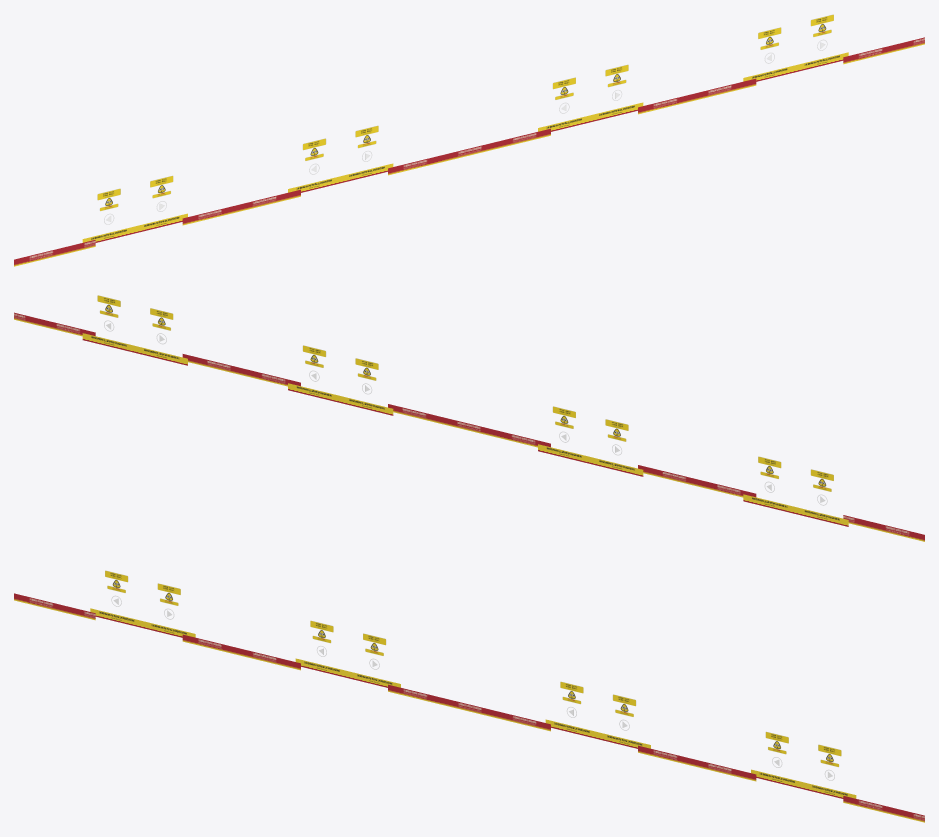
Rendered from PlatformEdgeDecals.glb.
3 renders of one model, top to bottom at view 1: azimuth 30°, elevation 25°; view 2: azimuth 150°, elevation 25°; view 3: azimuth 330°, elevation 25°, orthographic.
Visible parts, largest first — view 1: psd-fixed-band (×5); view 2: psd-fixed-band (×5); view 3: psd-fixed-band (×5).
Boxes of the visible parts, x1,y1,x2,y2 form: psd-fixed-band (×5): [14, 37, 924, 266]; psd-fixed-band (×5): [14, 312, 924, 541]; psd-fixed-band (×5): [14, 593, 924, 822].
Bounding box in the file's own units: 20 × 1.02 × 0.144.
5 materials, 5 textured.
